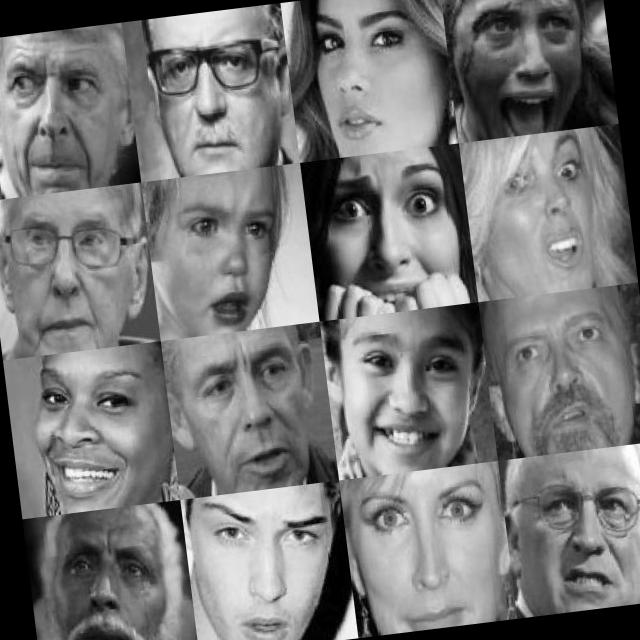angry: (481, 306, 640, 457), (525, 476, 640, 605)
fear: (470, 124, 630, 286), (442, 0, 617, 136), (316, 151, 468, 306), (150, 193, 310, 332)
happy: (18, 364, 165, 505), (329, 318, 474, 458)
neutral: (126, 12, 288, 175), (356, 476, 499, 635), (0, 28, 135, 191), (0, 201, 145, 346), (299, 0, 435, 154), (202, 497, 343, 640), (185, 342, 312, 480)
sad: (26, 529, 168, 640)
